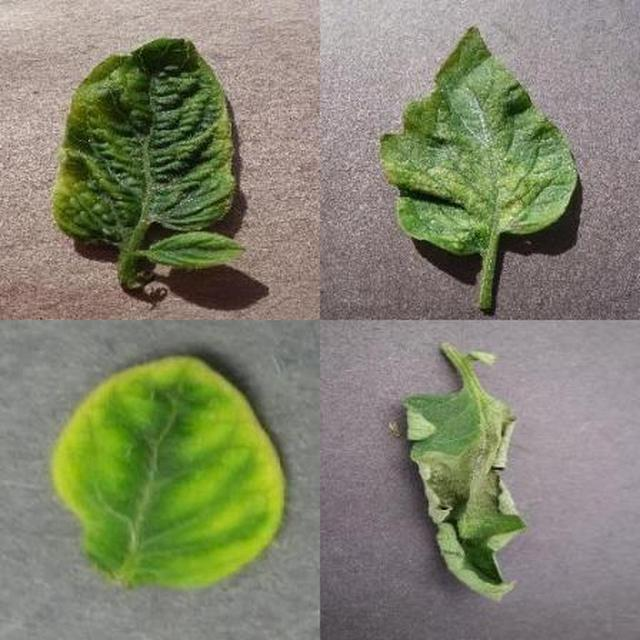Yellow Leaf Curl Virus: (139, 53, 640, 640)
